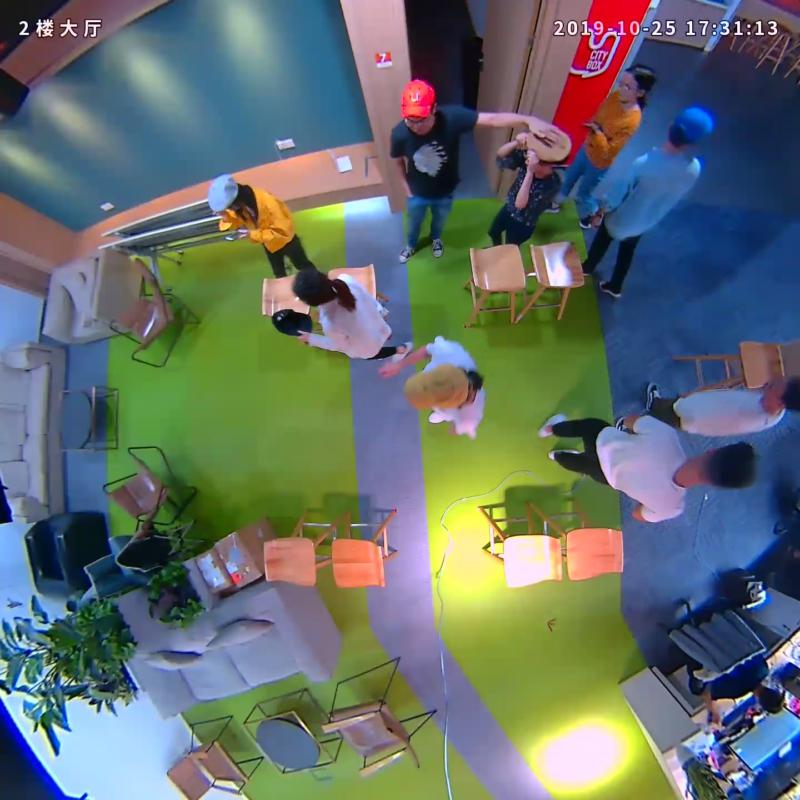head: (403, 364, 472, 411), (693, 441, 755, 491), (525, 127, 572, 175), (665, 105, 713, 150), (400, 77, 436, 134), (292, 266, 335, 307), (617, 63, 656, 102), (762, 377, 800, 413), (208, 175, 243, 213)
